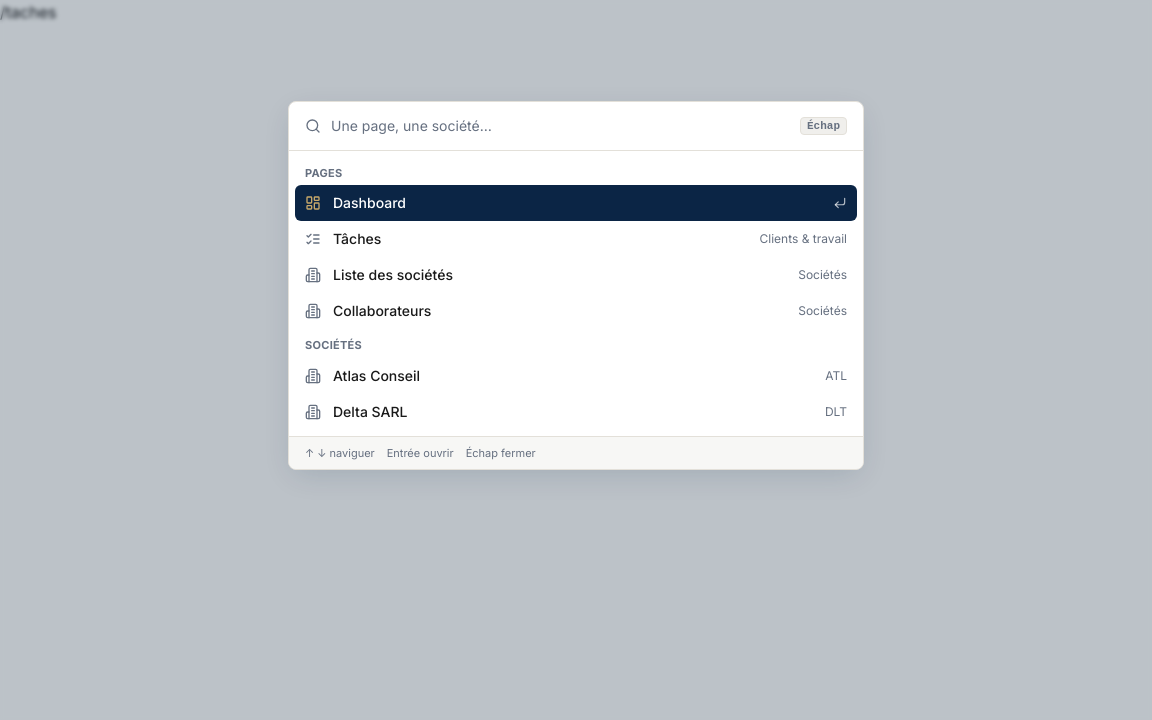
Test: « Aller à… » (Ctrl K) › aucun résultat : message clair ; un compte de société cliente n'a pas la liste des sociétés
Step 1. Type "zzzz" into the dropdown → (560, 126), box [331,102,790,150]
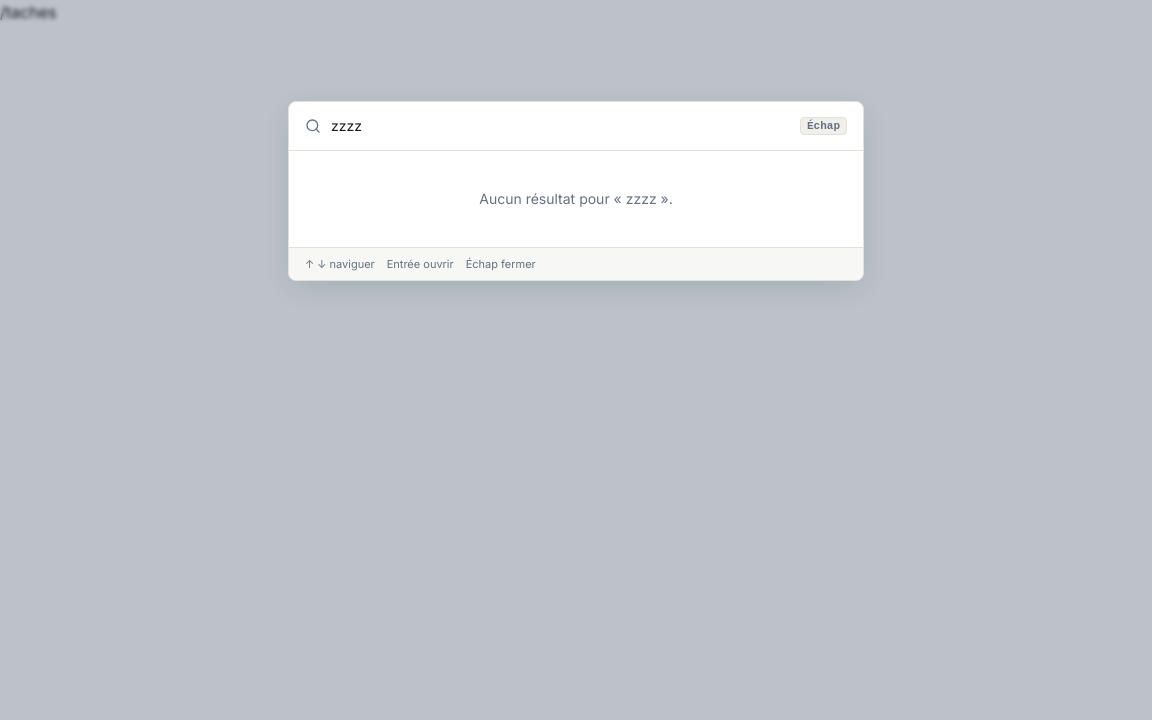
Check: the list item "Aucun résultat pour « zzzz »." is shown, box [479,190,673,207]
